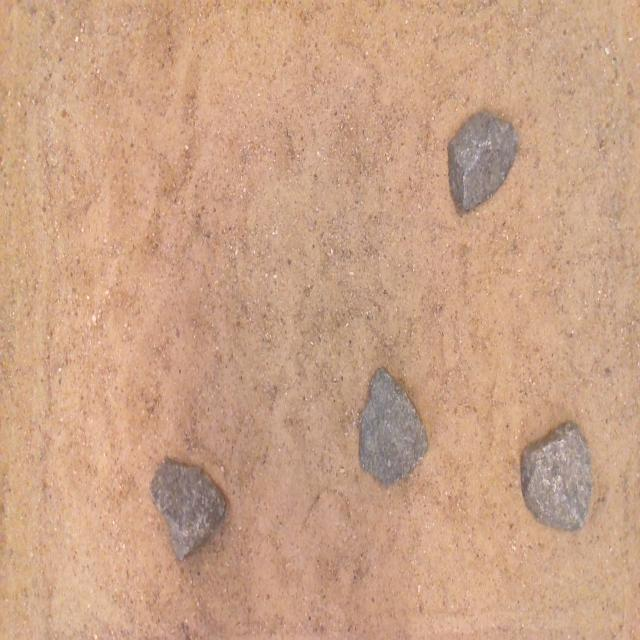rock: (360, 367, 428, 485), (521, 422, 592, 530), (150, 459, 225, 560), (448, 111, 518, 210)
